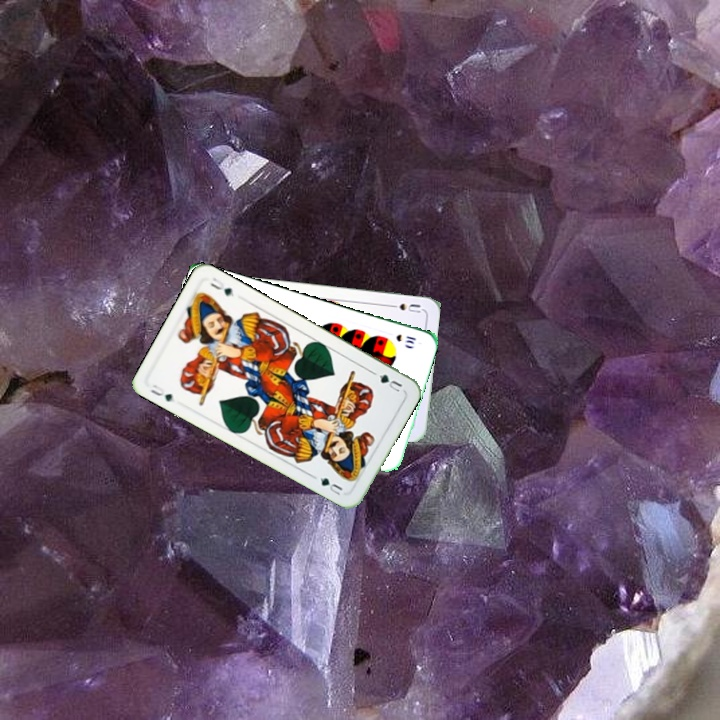GU: (375, 370, 405, 395), (146, 380, 175, 405)
S10: (392, 330, 419, 347)
SU: (384, 299, 424, 315)
